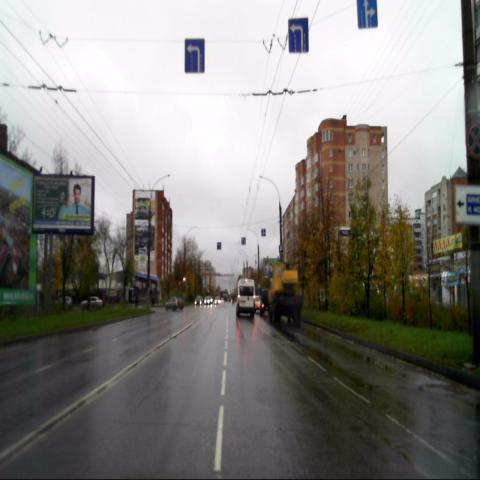5_15_2: (288, 18, 308, 54)
